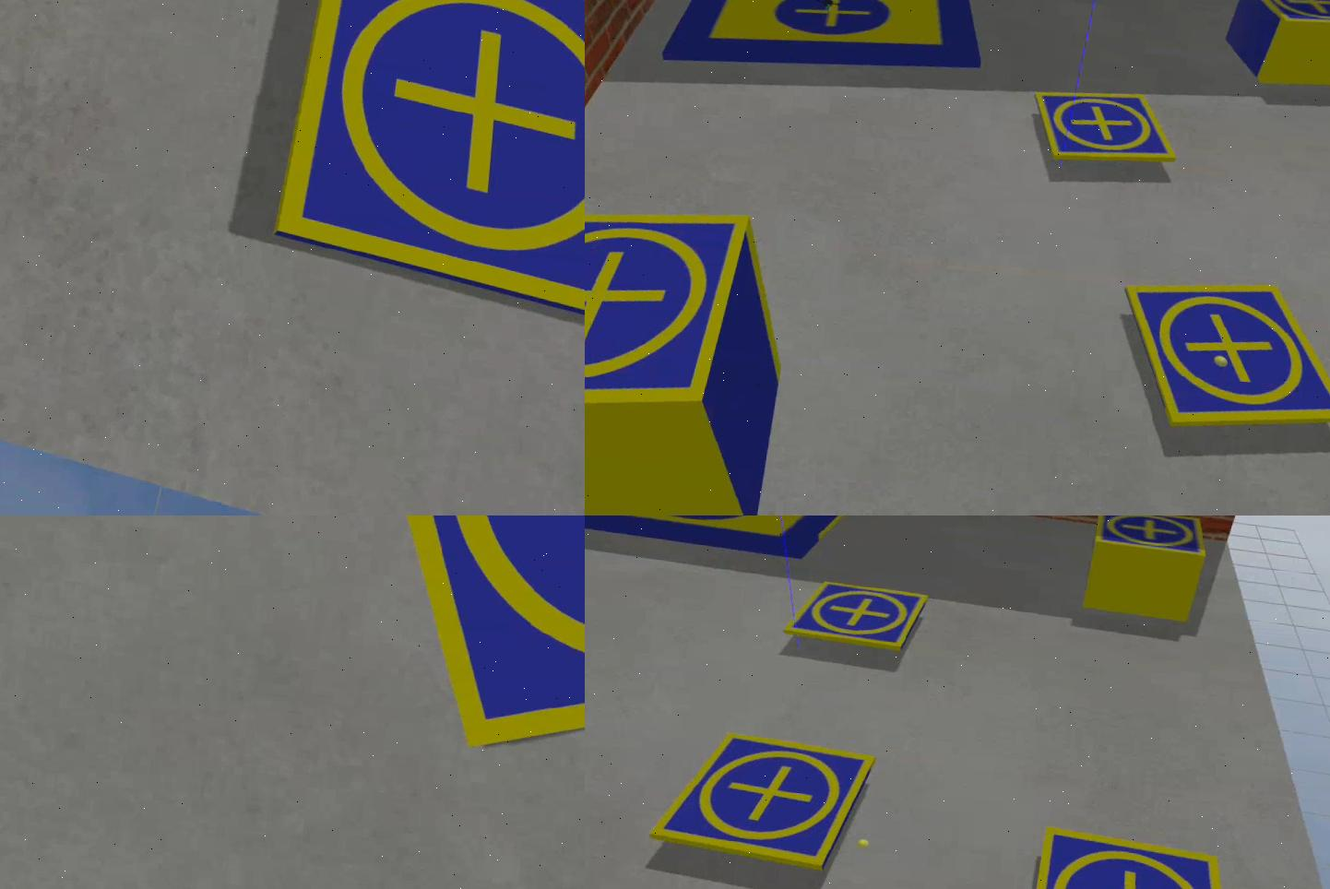large_base: (662, 1, 992, 89), (586, 516, 865, 567)
small_base: (269, 1, 586, 338), (287, 516, 586, 795), (586, 190, 756, 435), (1110, 268, 1330, 444), (647, 723, 878, 875), (1020, 823, 1255, 889), (1029, 84, 1182, 172), (787, 577, 932, 658), (1092, 516, 1208, 560), (1241, 1, 1330, 39)
